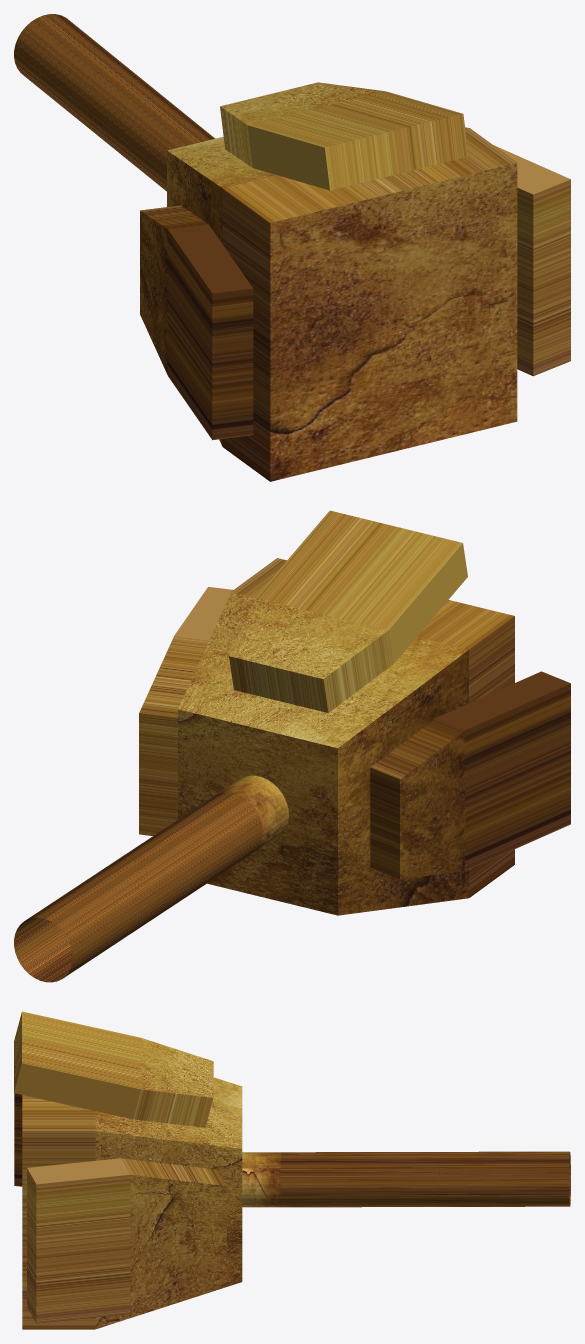
The model's file is finalCanon.obj.
The picture shows the model from 3 angles, top to bottom: view 1: azimuth 30°, elevation 25°; view 2: azimuth 150°, elevation 25°; view 3: azimuth 270°, elevation 25°; orthographic projection. The views are drawn at different scales.
Parts seen in each view (by area): view 1: Cilindro; view 2: Cilindro; view 3: Cilindro.
Part boxes in pixels (x1=…): Cilindro: x1=14, y1=14, x2=570, y2=481; Cilindro: x1=14, y1=510, x2=570, y2=982; Cilindro: x1=14, y1=1011, x2=570, y2=1329.
Bounding box in the file's own units: 4.42 × 3.69 × 7.57.
